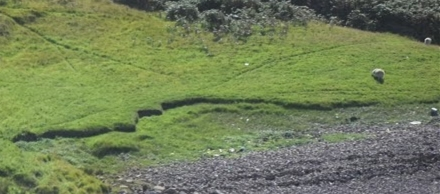scattered_barrel: (336, 106, 440, 139), (199, 108, 258, 160)
white_in_green: (229, 47, 260, 78)
